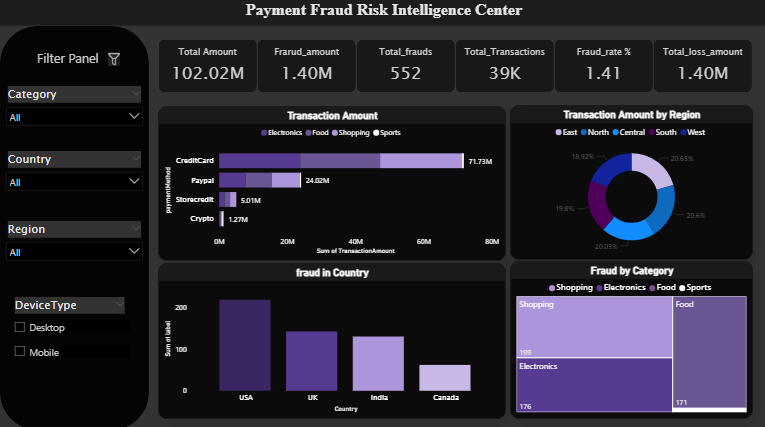

The dashboard page shown, as its layout file describes it:
{"tool":"powerbi","page":{"name":"Page 1","canvas":[1280,720],"ordinal":0},"visuals":[{"type":"cardVisual","fields":{"Data":["fraud_project fraud_payments.Total Amount","fraud_project fraud_payments.Frarud_amount","fraud_project fraud_payments.Total_frauds","fraud_project fraud_payments.Total_Transactions","fraud_payments.Fraud_rate %","fraud_payments.Total_loss_amount"]},"box":[251.7,56.7,1016.7,113.3],"z":0},{"type":"textbox","box":[0,0,1279.5,46.3],"z":1000},{"type":"shape","box":[0,46.7,248.3,673.3],"z":2000},{"type":"textbox","box":[56.2,80,163.8,66.2],"z":3000},{"type":"image","box":[180,90,20,23.2],"z":4000},{"type":"barChart","title":" Transaction Amount ","fields":{"Category":["fraud_project fraud_payments.paymentMethod"],"Series":["fraud_project fraud_payments.Category"],"Y":["Sum(fraud_project fraud_payments.TransactionAmount)"]},"box":[263.3,180,580,258.3],"z":5000},{"type":"donutChart","title":"Transaction Amount by Region","fields":{"Y":["Sum(fraud_project fraud_payments.TransactionAmount)"],"Category":["fraud_project fraud_payments.Region"]},"box":[850,178.3,405,258.3],"z":6000},{"type":"clusteredColumnChart","title":"fraud in Country","fields":{"Category":["fraud_project fraud_payments.Country"],"Y":["Sum(fraud_project fraud_payments.label)"]},"box":[263.3,441.7,580,260],"z":7000},{"type":"treemap","title":"Fraud by Category","fields":{"Group":["fraud_project fraud_payments.Category"],"Values":["Sum(fraud_project fraud_payments.label)"]},"box":[850,438.3,405,263.3],"z":8000},{"type":"slicer","fields":{"Values":["fraud_project fraud_payments.Category"]},"box":[0,141.2,247.5,76.2],"z":9000},{"type":"slicer","fields":{"Values":["fraud_project fraud_payments.Country"]},"box":[0,250,247.5,81.2],"z":10000},{"type":"slicer","fields":{"Values":["fraud_project fraud_payments.Region"]},"box":[0,366.2,247.5,93.8],"z":11000},{"type":"slicer","fields":{"Values":["fraud_project fraud_payments.DeviceType"]},"box":[20.2,459.8,208.2,128.7],"z":12000},{"type":"image","box":[56.4,610.1,115.7,91.1],"z":12001}]}

Visuals, with their boxes in screenshot pixels (x1, y1, x2, y2), scaled from the page's 1280x720 canvas onto the 765x427 screenshot:
cardVisual - fraud_project fraud_payments.Total Amount x fraud_project fraud_payments.Frarud_amount: left=150, top=34, right=758, bottom=101
textbox: left=0, top=0, right=764, bottom=27
shape: left=0, top=28, right=148, bottom=426
textbox: left=34, top=47, right=131, bottom=87
image: left=108, top=53, right=120, bottom=67
" Transaction Amount " barChart: left=157, top=107, right=504, bottom=260
"Transaction Amount by Region" donutChart: left=508, top=106, right=750, bottom=259
"fraud in Country" clusteredColumnChart: left=157, top=262, right=504, bottom=416
"Fraud by Category" treemap: left=508, top=260, right=750, bottom=416
slicer - fraud_project fraud_payments.Category: left=0, top=84, right=148, bottom=129
slicer - fraud_project fraud_payments.Country: left=0, top=148, right=148, bottom=196
slicer - fraud_project fraud_payments.Region: left=0, top=217, right=148, bottom=273
slicer - fraud_project fraud_payments.DeviceType: left=12, top=273, right=137, bottom=349
image: left=34, top=362, right=103, bottom=416
